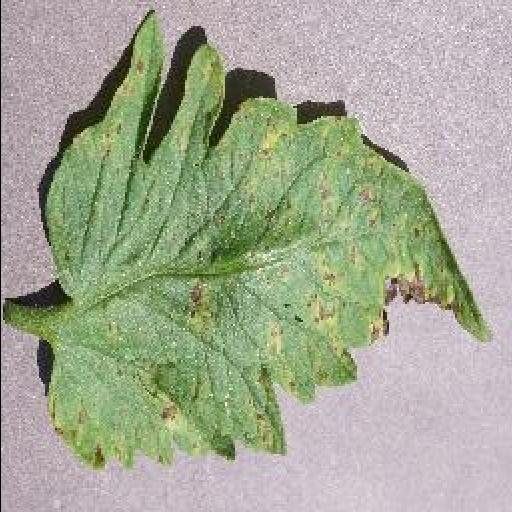disease_tomato: (42, 10, 494, 471)
